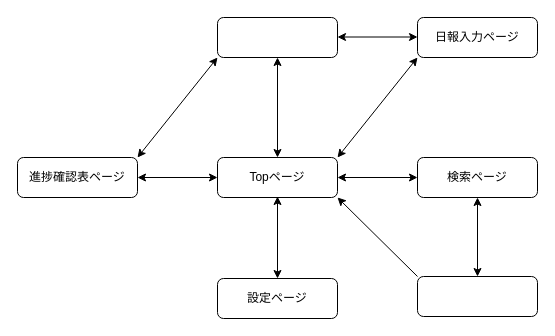
Some shapes in this 555 by 336 pixel diagram are drawn without their labels. Each missing label, with the centre of its shape:
"工程登録ページ" belongs at (277,37).
"編集完了ページ" belongs at (477,296).
